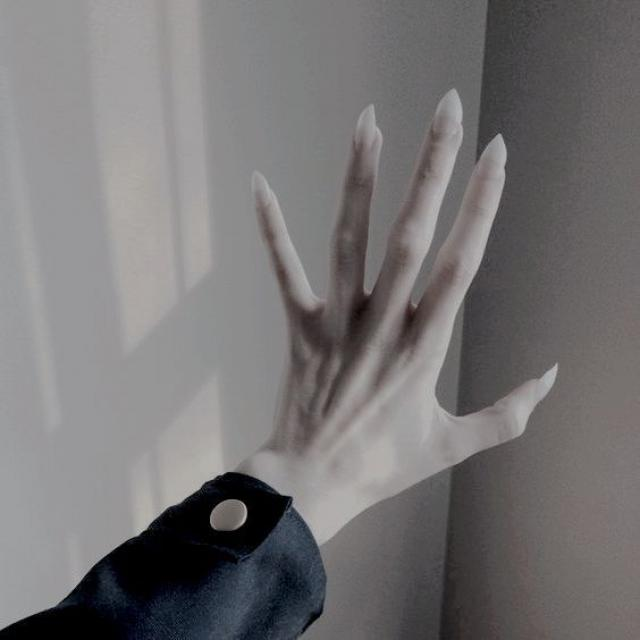bare_hand: (239, 86, 562, 539)
